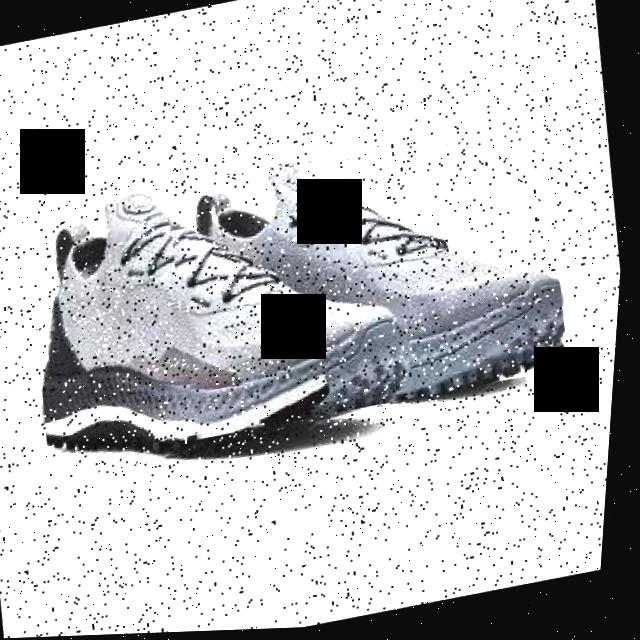shoe: (14, 146, 431, 487), (155, 116, 588, 444)
